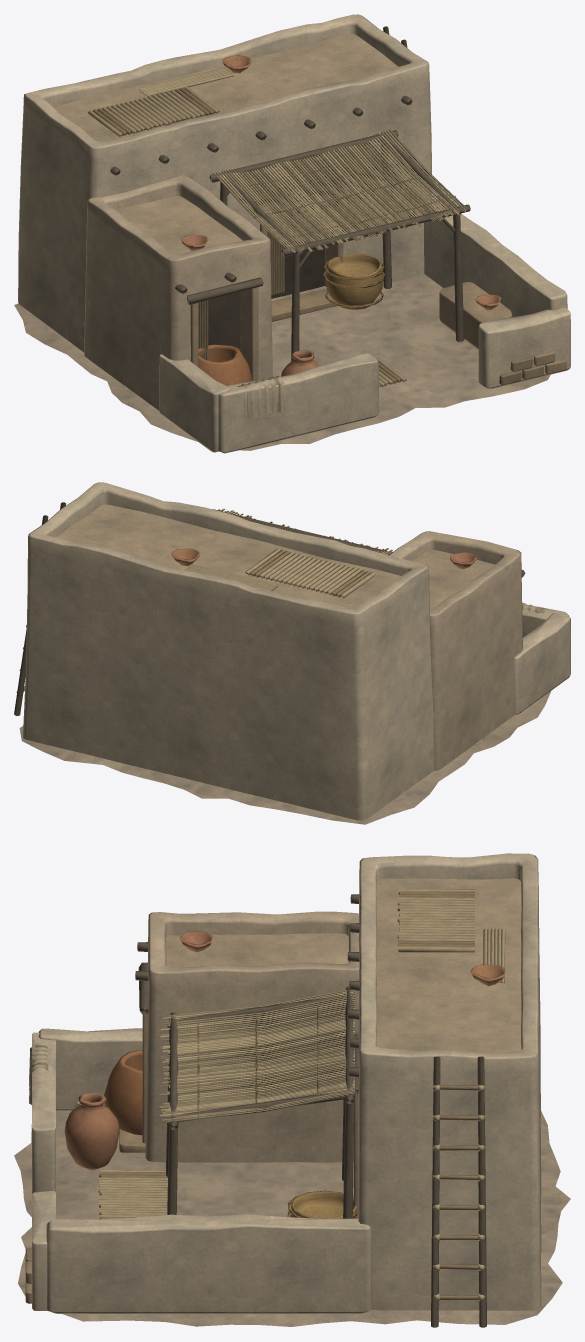
File: house-2.glb
3 renders of one model, top to bottom at view 1: azimuth 30°, elevation 25°; view 2: azimuth 150°, elevation 25°; view 3: azimuth 270°, elevation 25°, orthographic. The views are drawn at different scales.
Visible parts, largest first — view 1: Courtyard house II; view 2: Courtyard house II; view 3: Courtyard house II.
Boxes of the visible parts, x1,y1,x2,y2 form: Courtyard house II: (14, 14, 570, 453); Courtyard house II: (14, 482, 570, 824); Courtyard house II: (14, 853, 570, 1327).
Bounding box in the file's own units: 5.08 × 2.6 × 5.06.
6 materials, 6 textured.
